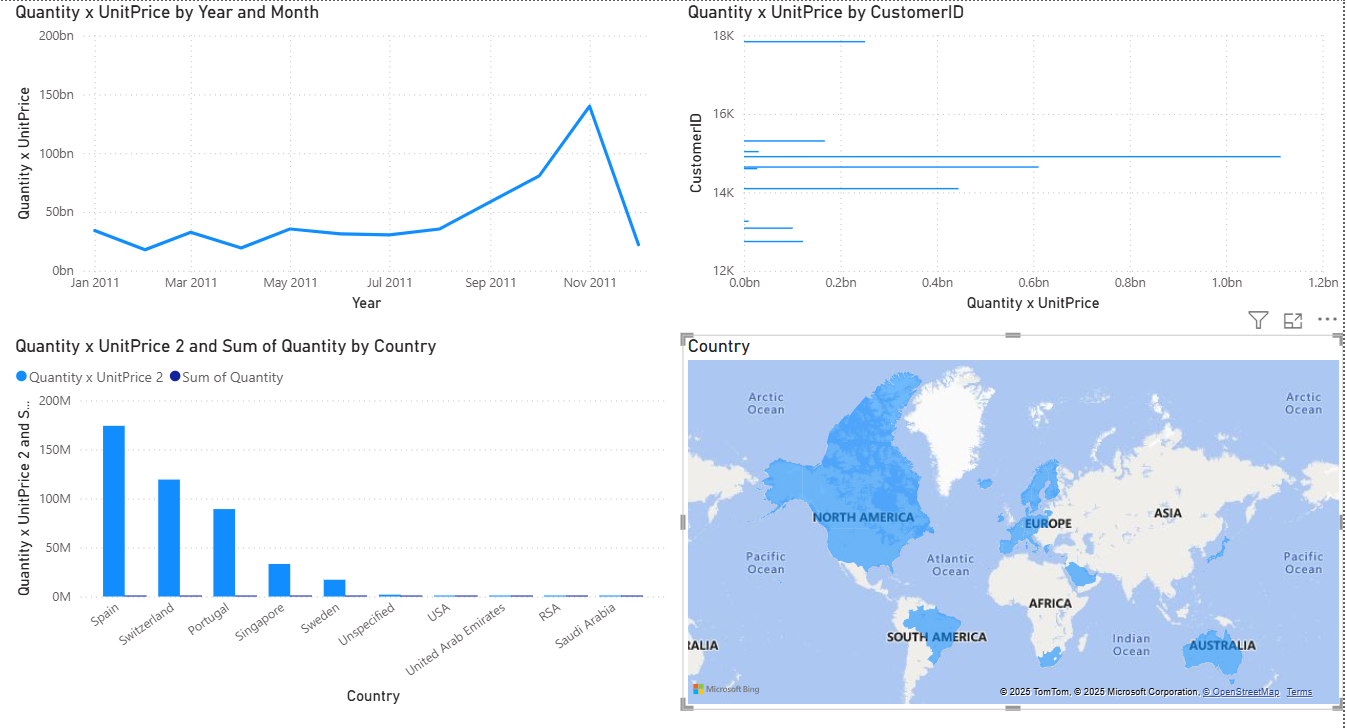

This screenshot's page, from the dashboard's own definition file:
{"tool":"powerbi","page":{"name":"Page 1","canvas":[1280,720],"ordinal":0},"visuals":[{"type":"lineChart","fields":{"Category":["Online Retail.InvoiceDate.Variation.Date Hierarchy.Year","Online Retail.InvoiceDate.Variation.Date Hierarchy.Month"],"Y":["Online Retail.Quantity x UnitPrice"]},"box":[9.8,0,629.8,300.8],"z":0},{"type":"clusteredColumnChart","fields":{"Y":["Online Retail.Quantity x UnitPrice 2","Sum(Online Retail.Quantity)"],"Category":["Online Retail.Country"]},"box":[9.8,317.9,629.8,357.1],"z":1},{"type":"clusteredBarChart","fields":{"Category":["Online Retail.CustomerID"],"Y":["Online Retail.Quantity x UnitPrice"]},"box":[650.5,0,629.8,300.8],"z":2},{"type":"filledMap","fields":{"Category":["Online Retail.Country"]},"box":[650,318,630,357],"z":3}]}

Visuals, with their boxes on the page's 1280x720 design canvas (x1, y1, x2, y2). These are canvas units, not pixel positions in the 1347x728 screenshot, which may show the page scaled, cropped or inside an application window:
lineChart - Online Retail.InvoiceDate.Variation.Date Hierarchy.Year x Online Retail.InvoiceDate.Variation.Date Hierarchy.Month: 10, 0, 640, 301
clusteredColumnChart - Online Retail.Quantity x UnitPrice 2 x Sum(Online Retail.Quantity): 10, 318, 640, 675
clusteredBarChart - Online Retail.CustomerID x Online Retail.Quantity x UnitPrice: 650, 0, 1280, 301
filledMap - Online Retail.Country: 650, 318, 1280, 675
